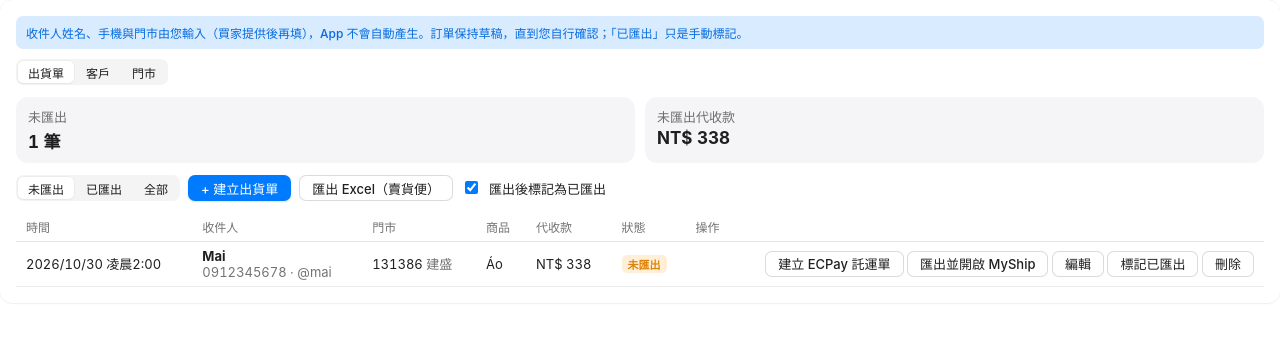
Test: ShipPage › shows pending stats and exports the pending orders
Expected: the text "NT$ 338" is shown, left=657, top=128, right=730, bottom=148
Click the button "匯出 Excel（賣貨便）": {"x": 376, "y": 188} left=299, top=175, right=453, bottom=201
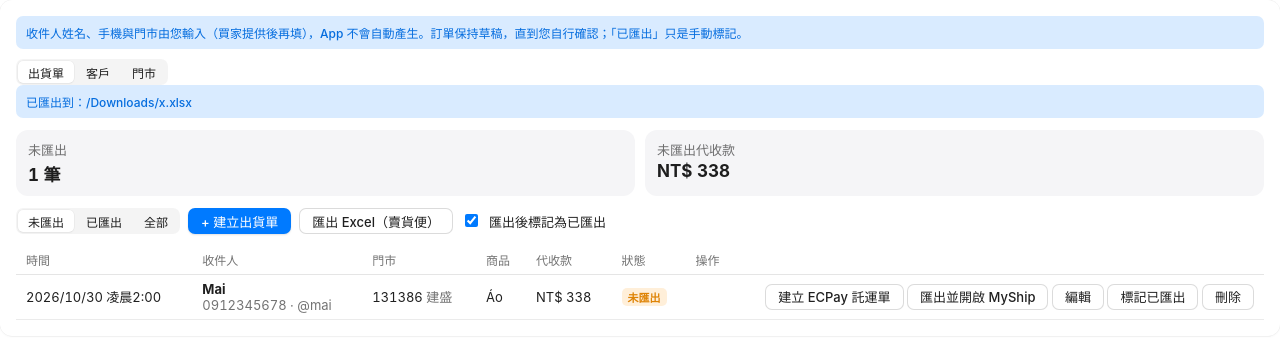
Now the text "已匯出到：/Downloads/x.xlsx" is shown, box left=16, top=85, right=1264, bottom=118
